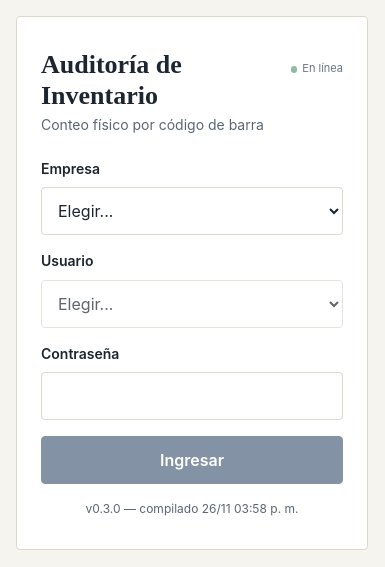
Scenario: LoginPage › al elegir Empresa carga los usuarios de esa empresa en el desplegable
Select "Depor (Testing)" in the dropdown labelled "Empresa". click: (192,212)
box: [41,188,343,236]
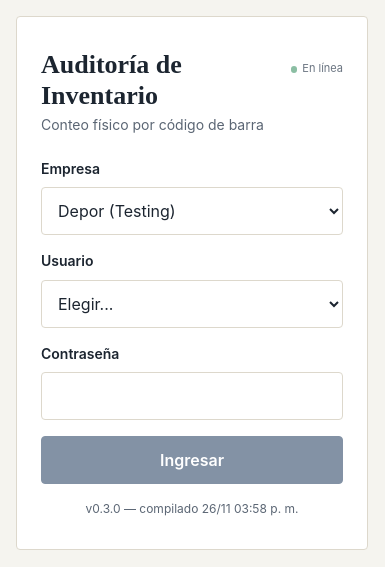
Check: the dropdown labelled "Usuario" is enabled, box [41,280,343,328]
